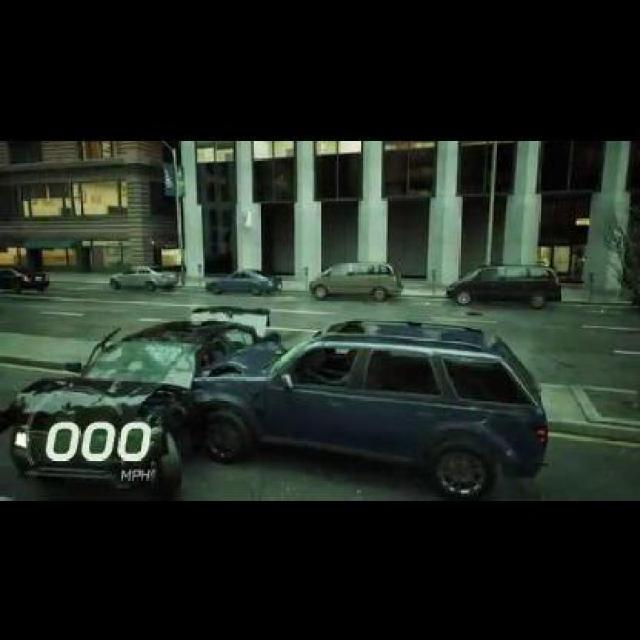accident: (2, 298, 550, 498)
